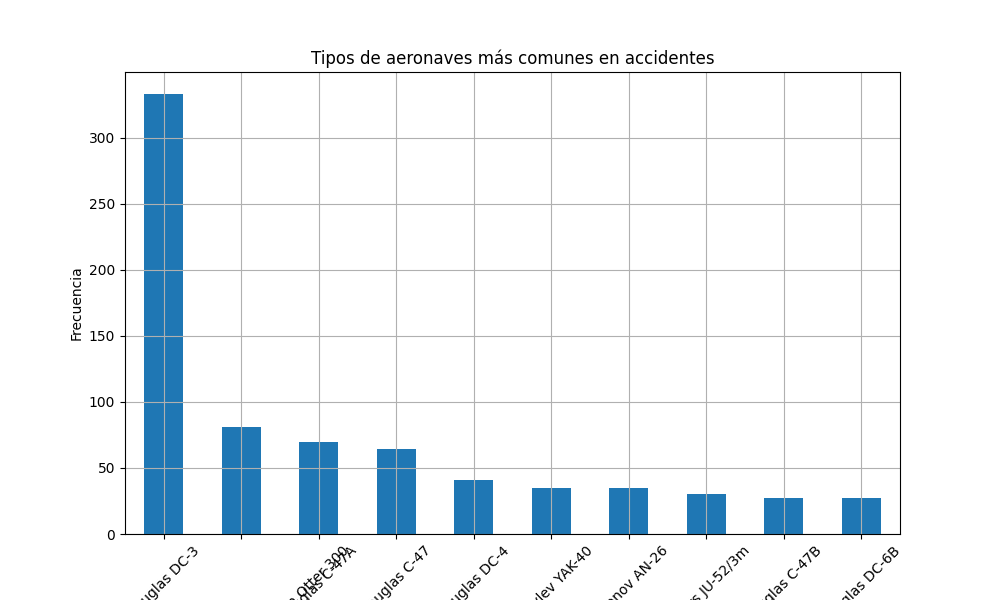

The page's visual inventory and layout, read from the dashboard file:
{"tool":"tableau","page":{"name":"Dashboard 1","canvas":[1000,800],"ordinal":0},"visuals":[{"type":"worksheet","title":"Hoja 1","mark":"Automatic","rows":["OperadOR"],"cols":["F1"],"box":[8,8,984,784]}]}

Visuals, with their boxes on the page's 1000x800 design canvas (x1, y1, x2, y2). These are canvas units, not pixel positions in the 1000x600 screenshot, which may show the page scaled, cropped or inside an application window:
"Hoja 1" worksheet: 8,8,992,792
